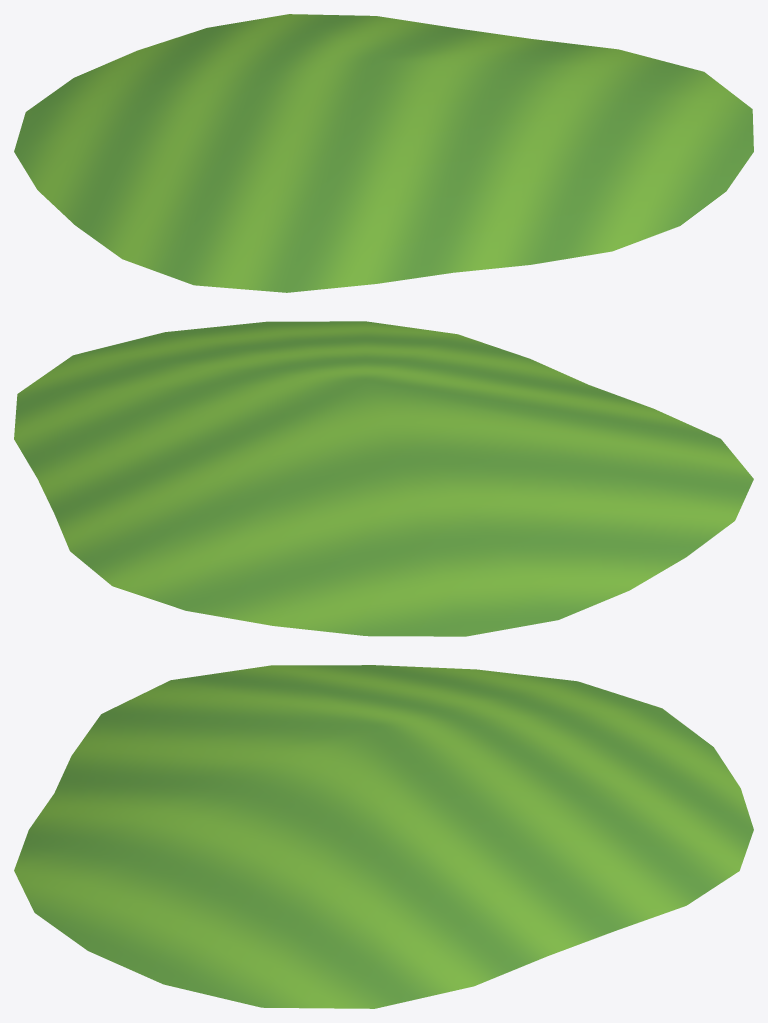
Rendered from ISL-L_LOD2_Grass.fbx.
The picture shows the model from 3 angles, top to bottom: view 1: azimuth 30°, elevation 25°; view 2: azimuth 150°, elevation 25°; view 3: azimuth 270°, elevation 25°; orthographic projection. The views are drawn at different scales.
Visible parts, largest first — view 1: ISL-L_LOD2_Grass; view 2: ISL-L_LOD2_Grass; view 3: ISL-L_LOD2_Grass.
Boxes of the visible parts, left/top/right/bottom form: ISL-L_LOD2_Grass: left=14, top=14, right=753, bottom=292; ISL-L_LOD2_Grass: left=14, top=321, right=753, bottom=636; ISL-L_LOD2_Grass: left=14, top=665, right=753, bottom=1008.
Bounding box in the file's own units: 149 × 136 × 20.8.
